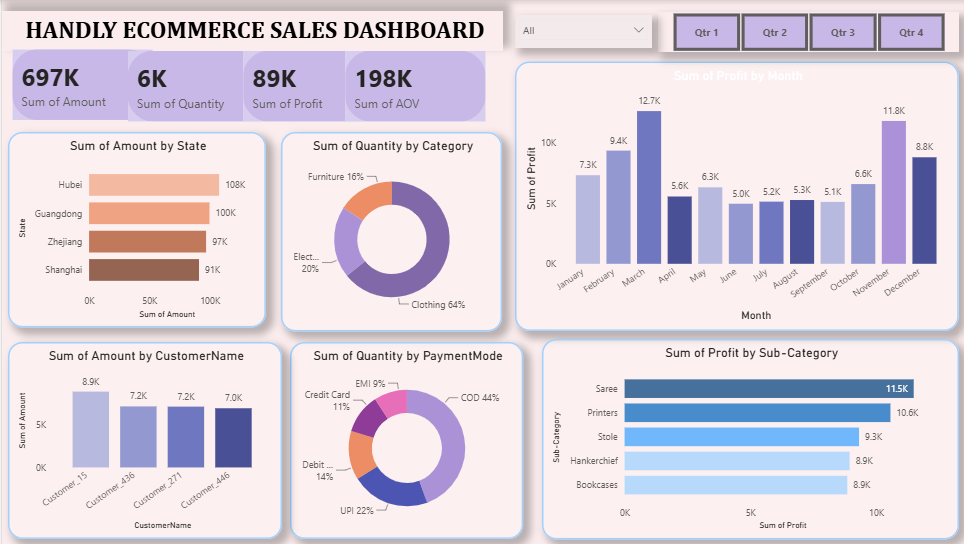

Layout of this report page (visuals, bound fields, positions):
{"tool":"powerbi","page":{"name":"Page 1","canvas":[1280,720],"ordinal":0},"visuals":[{"type":"textbox","box":[0,14.3,662.5,53.6],"z":0},{"type":"columnChart","fields":{"Y":["Sum(China_Ecommerce_Details.Profit)"],"Category":["China_Ecommerce_Orders.Order Date.Variation.Date Hierarchy.Month"]},"box":[678.5,81,587.3,356.5],"z":1000},{"type":"barChart","fields":{"Y":["Sum(China_Ecommerce_Details.Profit)"],"Category":["China_Ecommerce_Details.Sub-Category"]},"box":[715,448.3,551.7,265],"z":2000},{"type":"donutChart","fields":{"Y":["Sum(China_Ecommerce_Details.Quantity)"],"Category":["China_Ecommerce_Details.Category"]},"box":[369.6,175,292.9,264.3],"z":3000},{"type":"donutChart","fields":{"Y":["Sum(China_Ecommerce_Details.Quantity)"],"Category":["China_Ecommerce_Details.PaymentMode"]},"box":[380.4,451.8,308.9,260.7],"z":4000},{"type":"cardVisual","fields":{"Data":["Sum(China_Ecommerce_Details.Amount)"]},"box":[13.3,66,185,93],"z":5000},{"type":"cardVisual","fields":{"Data":["Sum(China_Ecommerce_Details.Quantity)"]},"box":[166.7,66.7,183.3,93.3],"z":6000},{"type":"cardVisual","fields":{"Data":["Sum(China_Ecommerce_Details.Profit)"]},"box":[320,66.7,183.3,93.3],"z":7000},{"type":"cardVisual","fields":{"Data":["Sum(China_Ecommerce_Details.AOV)"]},"box":[455,66.7,185,93.3],"z":8000},{"type":"barChart","fields":{"Y":["Sum(China_Ecommerce_Details.Amount)"],"Category":["China_Ecommerce_Orders.State"]},"box":[8.9,175,341.1,258.9],"z":9000},{"type":"columnChart","fields":{"Y":["Sum(China_Ecommerce_Details.Amount)"],"Category":["China_Ecommerce_Orders.CustomerName"]},"box":[7.1,451.8,362.5,260.7],"z":10000},{"type":"slicer","fields":{"Values":["China_Ecommerce_Orders.Order Date.Variation.Date Hierarchy.Quarter"]},"box":[868,15,399,53],"z":11000},{"type":"slicer","fields":{"Values":["China_Ecommerce_Orders.City"]},"box":[678.9,18.9,181.1,43.3],"z":12000}]}

Visuals, with their boxes in screenshot pixels (x1, y1, x2, y2), scaled from the page's 1280x720 canvas onto the 964x544 screenshot:
textbox: <region>0, 11, 499, 51</region>
columnChart - Sum(China_Ecommerce_Details.Profit) x China_Ecommerce_Orders.Order Date.Variation.Date Hierarchy.Month: <region>511, 61, 953, 331</region>
barChart - Sum(China_Ecommerce_Details.Profit) x China_Ecommerce_Details.Sub-Category: <region>538, 339, 954, 539</region>
donutChart - Sum(China_Ecommerce_Details.Quantity) x China_Ecommerce_Details.Category: <region>278, 132, 499, 332</region>
donutChart - Sum(China_Ecommerce_Details.Quantity) x China_Ecommerce_Details.PaymentMode: <region>286, 341, 519, 538</region>
cardVisual - Sum(China_Ecommerce_Details.Amount): <region>10, 50, 149, 120</region>
cardVisual - Sum(China_Ecommerce_Details.Quantity): <region>126, 50, 264, 121</region>
cardVisual - Sum(China_Ecommerce_Details.Profit): <region>241, 50, 379, 121</region>
cardVisual - Sum(China_Ecommerce_Details.AOV): <region>343, 50, 482, 121</region>
barChart - Sum(China_Ecommerce_Details.Amount) x China_Ecommerce_Orders.State: <region>7, 132, 264, 328</region>
columnChart - Sum(China_Ecommerce_Details.Amount) x China_Ecommerce_Orders.CustomerName: <region>5, 341, 278, 538</region>
slicer - China_Ecommerce_Orders.Order Date.Variation.Date Hierarchy.Quarter: <region>654, 11, 954, 51</region>
slicer - China_Ecommerce_Orders.City: <region>511, 14, 648, 47</region>
